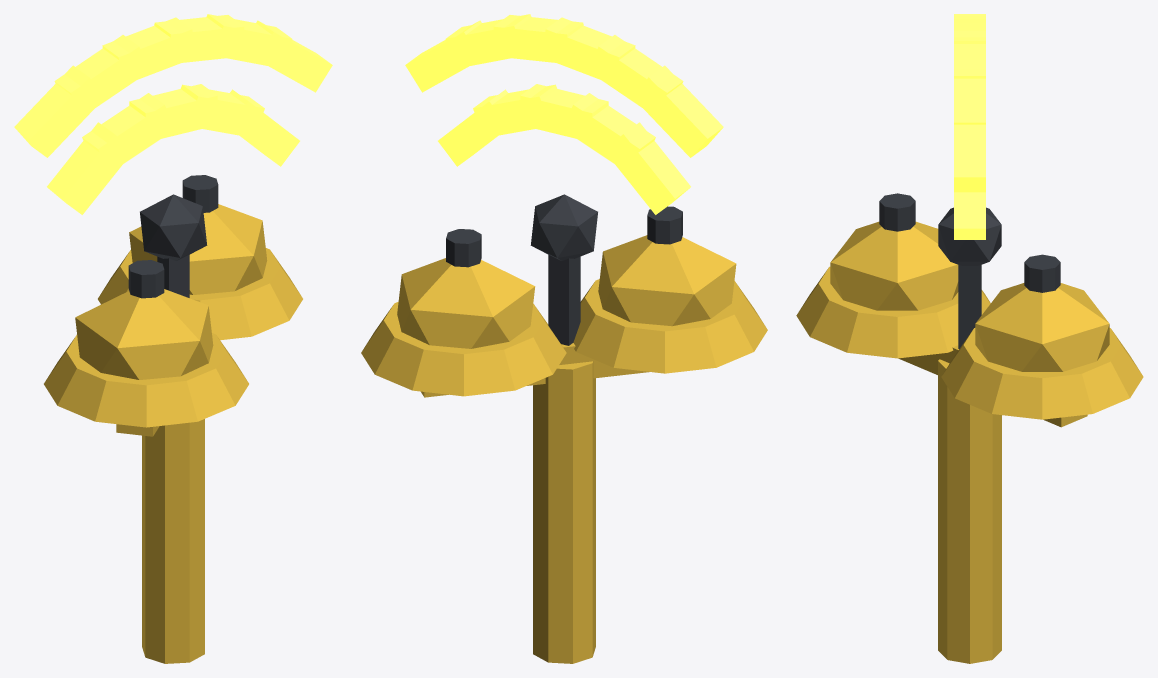
File: pomodoro_m2_2.glb
3 renders of one model, left to right at view 1: azimuth 30°, elevation 25°; view 2: azimuth 150°, elevation 25°; view 3: azimuth 270°, elevation 25°, orthographic.
Parts seen in each view (by area): view 1: pomodoro_m2_2_mesh; view 2: pomodoro_m2_2_mesh; view 3: pomodoro_m2_2_mesh.
Part boxes in pixels (<box>): pomodoro_m2_2_mesh: <box>14,14,332,663</box>; pomodoro_m2_2_mesh: <box>361,14,767,663</box>; pomodoro_m2_2_mesh: <box>796,14,1143,663</box>.
Size of the model in its own units: 0.326 by 0.6366 by 0.326.
